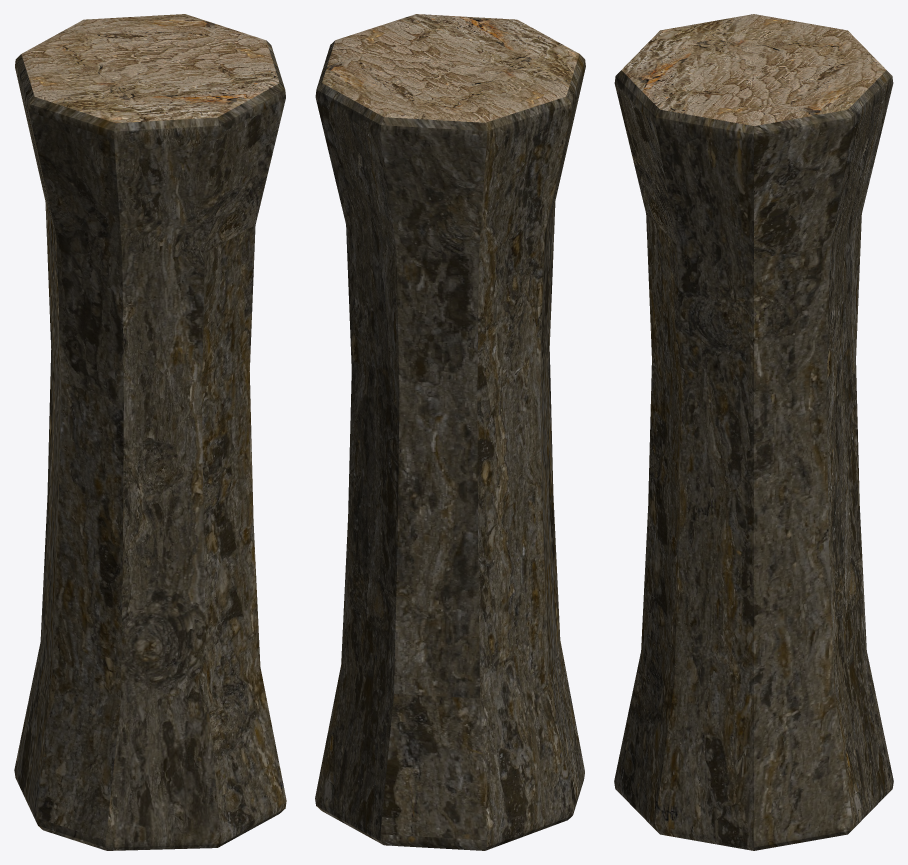
The model's file is TreeBench.fbx.
3 renders of one model, left to right at view 1: azimuth 30°, elevation 25°; view 2: azimuth 150°, elevation 25°; view 3: azimuth 270°, elevation 25°, orthographic.
Visible parts, largest first — view 1: Wood, Woodtop; view 2: Wood, Woodtop; view 3: Wood, Woodtop.
Boxes of the visible parts, box(x1,y1,x2,y2) form: Wood: box(14, 40, 286, 850); Woodtop: box(21, 14, 279, 123); Wood: box(315, 41, 585, 850); Woodtop: box(322, 14, 579, 122); Wood: box(614, 70, 893, 850); Woodtop: box(621, 14, 886, 125).
Size of the model in its own units: 183 by 527 by 183.
